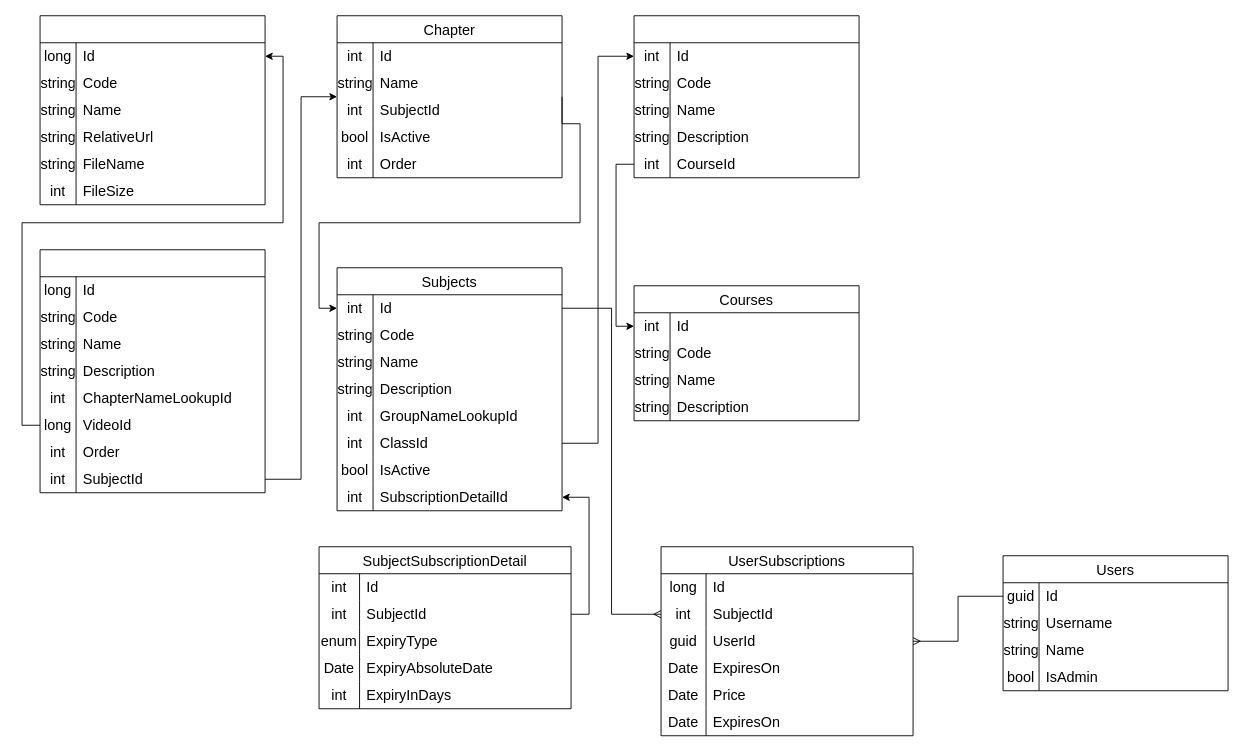
Image size: 1244x752. Some labels were removed from this diagram. Here are the shapes that lost their labels. From the top down, the box of each, then its label:
(39, 15, 265, 205): Videos
(633, 15, 859, 178): ClassDivisions
(39, 249, 265, 493): Lesson
